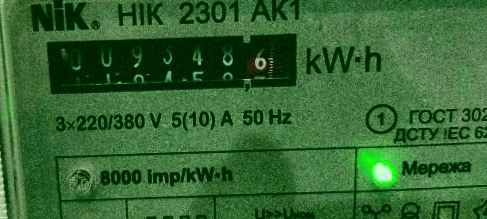0: (68, 44, 82, 71), (98, 43, 113, 67)
3: (159, 40, 173, 66)
4: (189, 39, 204, 66)
6: (251, 44, 269, 71)
8: (219, 39, 235, 67)
9: (128, 42, 144, 69)
screen: (36, 25, 307, 103)
